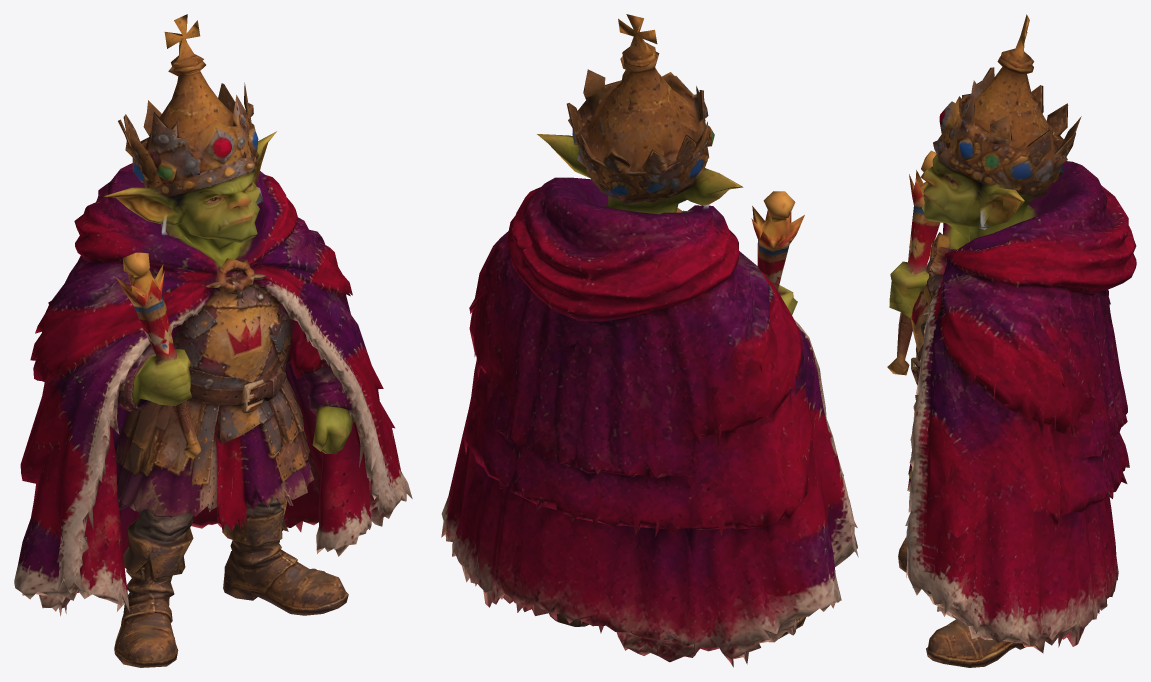
File: goblin-king.glb
3 renders of one model, left to right at view 1: azimuth 30°, elevation 25°; view 2: azimuth 150°, elevation 25°; view 3: azimuth 270°, elevation 25°, orthographic. The views are drawn at different scales.
Visible parts, largest first — view 1: tripo_node_a39362d2-5b12-464d-9bd4-0b8d3156261f; view 2: tripo_node_a39362d2-5b12-464d-9bd4-0b8d3156261f; view 3: tripo_node_a39362d2-5b12-464d-9bd4-0b8d3156261f.
Boxes of the visible parts, x1,y1,x2,y2 form: tripo_node_a39362d2-5b12-464d-9bd4-0b8d3156261f: [14, 14, 412, 667]; tripo_node_a39362d2-5b12-464d-9bd4-0b8d3156261f: [441, 14, 858, 667]; tripo_node_a39362d2-5b12-464d-9bd4-0b8d3156261f: [887, 14, 1136, 667].
Bounding box in the file's own units: 0.6578 × 0.9989 × 0.3806.
Materials: 1 (1 with a texture image).
